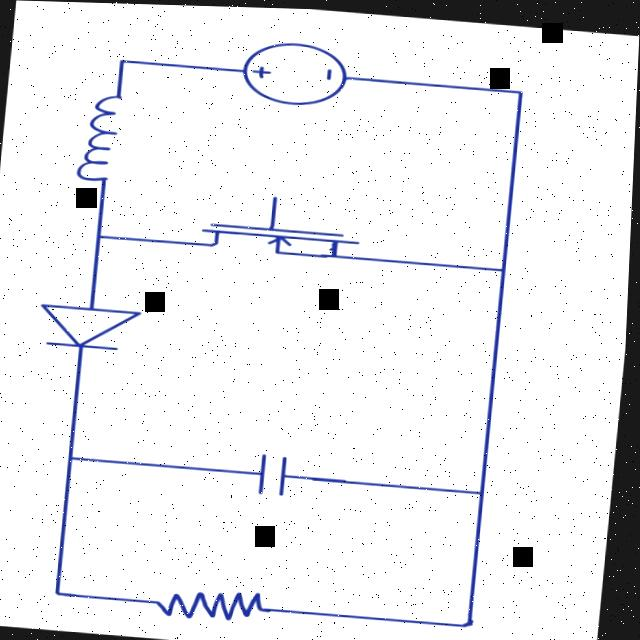capacitor: (235, 441, 317, 509)
diode: (30, 282, 153, 363)
inductor: (63, 81, 149, 197)
mosfet: (189, 183, 366, 273)
resistor: (134, 571, 302, 629)
source: (227, 34, 365, 111)
